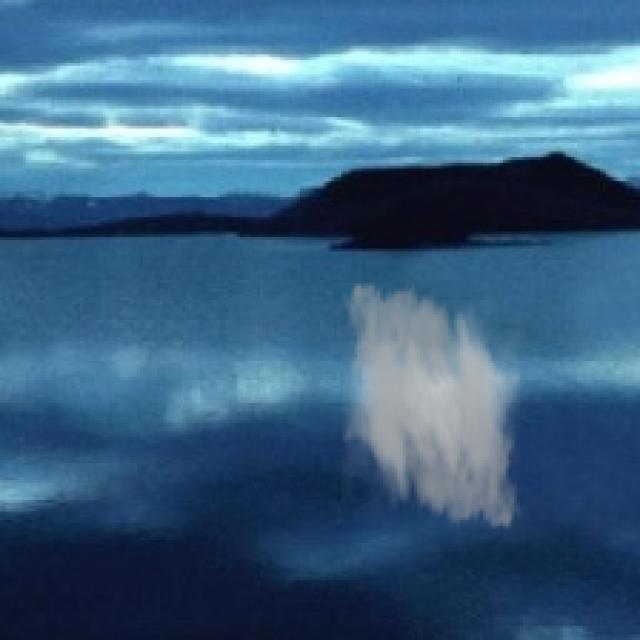smoke: (328, 271, 532, 540)
